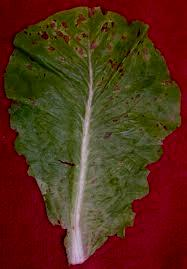Bok-Choy-Diseased: (2, 5, 177, 268)
